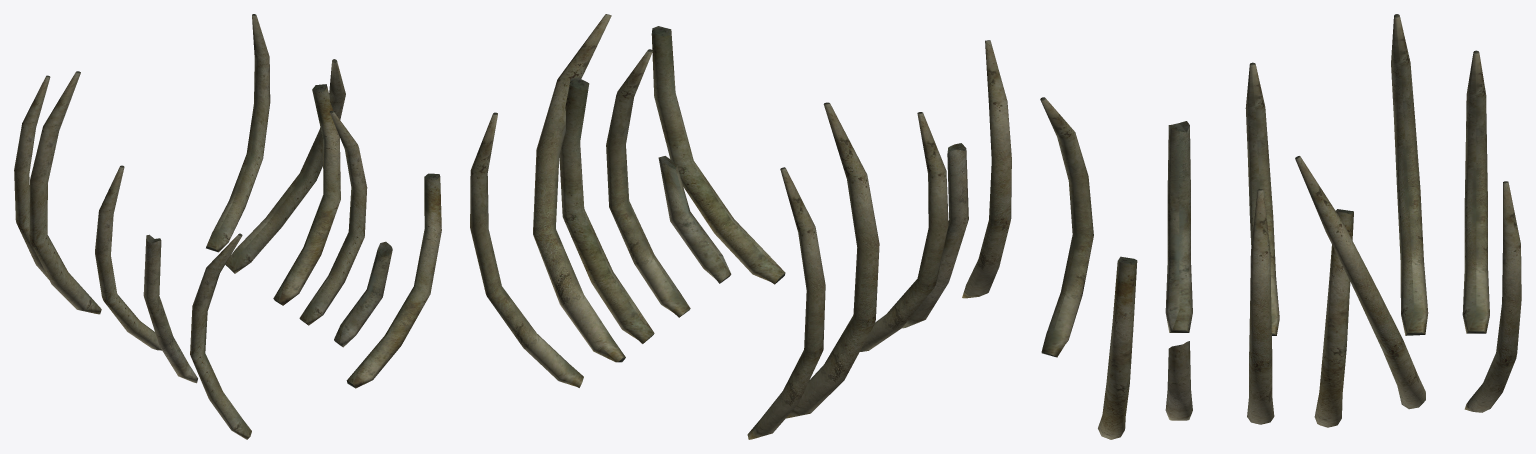
File: bone_whale_rib_up00.fbx
3 views of the same model, side by side, from view 1: azimuth 30°, elevation 25°; view 2: azimuth 150°, elevation 25°; view 3: azimuth 270°, elevation 25° (orthographic). The views are drawn at different scales.
Parts seen in each view (by area): view 1: bone_whale_rib_up00; view 2: bone_whale_rib_up00; view 3: bone_whale_rib_up00.
Part boxes in pixels (box(x1,y1,x2,y2)): bone_whale_rib_up00: box(14, 14, 441, 439); bone_whale_rib_up00: box(470, 14, 1011, 439); bone_whale_rib_up00: box(1040, 14, 1521, 439).
Bounding box in the file's own units: 16.64 × 14.38 × 19.33.
